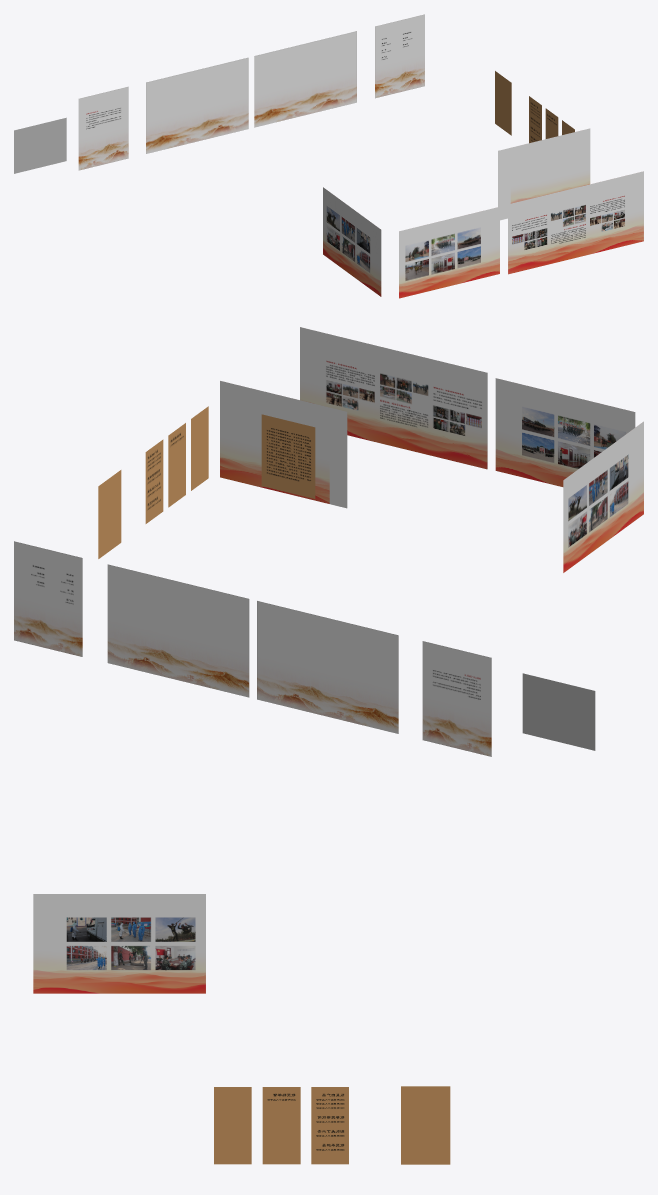
The model's file is 教导队.fbx.
3 views of the same model, one above another, from view 1: azimuth 30°, elevation 25°; view 2: azimuth 150°, elevation 25°; view 3: azimuth 270°, elevation 25° (orthographic). The views are drawn at different scales.
Parts seen in each view (by area): view 1: 教导队_建设成就, 教导队_发展历程右, 教导队_发展历程左, 教导队_军营文化, 教导队_重大任务, 教导队_官兵风采, 教导队_历史沿革, 教导队_历任主官, 教导队_前言, 教导队_集体荣誉, 教导队_个人荣誉左; view 2: 教导队_建设成就, 教导队_发展历程右, 教导队_发展历程左, 教导队_军营文化, 教导队_重大任务, 教导队_官兵风采, 教导队_历史沿革, 教导队_历任主官, 教导队_前言, 教导队_未来寄语, 教导队_集体荣誉, 教导队_个人荣誉左 (+2 smaller); view 3: 教导队_官兵风采, 教导队_集体荣誉, 教导队_个人荣誉中, 教导队_个人荣誉右, 教导队_个人荣誉左.
Boxes of the visible parts, bbox=[...] form: 教导队_建设成就: bbox=[508, 171, 643, 274]; 教导队_发展历程右: bbox=[254, 31, 356, 127]; 教导队_发展历程左: bbox=[146, 57, 248, 153]; 教导队_军营文化: bbox=[399, 207, 499, 298]; 教导队_重大任务: bbox=[498, 128, 590, 220]; 教导队_官兵风采: bbox=[323, 187, 381, 296]; 教导队_历史沿革: bbox=[78, 86, 128, 170]; 教导队_历任主官: bbox=[375, 14, 424, 98]; 教导队_前言: bbox=[14, 117, 66, 173]; 教导队_集体荣誉: bbox=[495, 71, 511, 135]; 教导队_个人荣誉左: bbox=[529, 96, 541, 143]; 教导队_建设成就: bbox=[300, 327, 487, 469]; 教导队_发展历程右: bbox=[107, 564, 249, 697]; 教导队_发展历程左: bbox=[257, 601, 398, 733]; 教导队_军营文化: bbox=[495, 378, 635, 486]; 教导队_重大任务: bbox=[220, 381, 347, 508]; 教导队_官兵风采: bbox=[563, 421, 643, 572]; 教导队_历史沿革: bbox=[422, 641, 491, 756]; 教导队_历任主官: bbox=[14, 541, 82, 656]; 教导队_前言: bbox=[522, 673, 595, 750]; 教导队_未来寄语: bbox=[261, 414, 315, 498]; 教导队_集体荣誉: bbox=[98, 470, 121, 558]; 教导队_个人荣誉左: bbox=[145, 439, 163, 523]; 教导队_官兵风采: bbox=[33, 894, 205, 993]; 教导队_集体荣誉: bbox=[401, 1086, 450, 1164]; 教导队_个人荣誉中: bbox=[262, 1087, 300, 1164]; 教导队_个人荣誉右: bbox=[214, 1087, 251, 1164]; 教导队_个人荣誉左: bbox=[311, 1087, 348, 1164].
Size of the model in its own units: 1325 by 216 by 1154.
